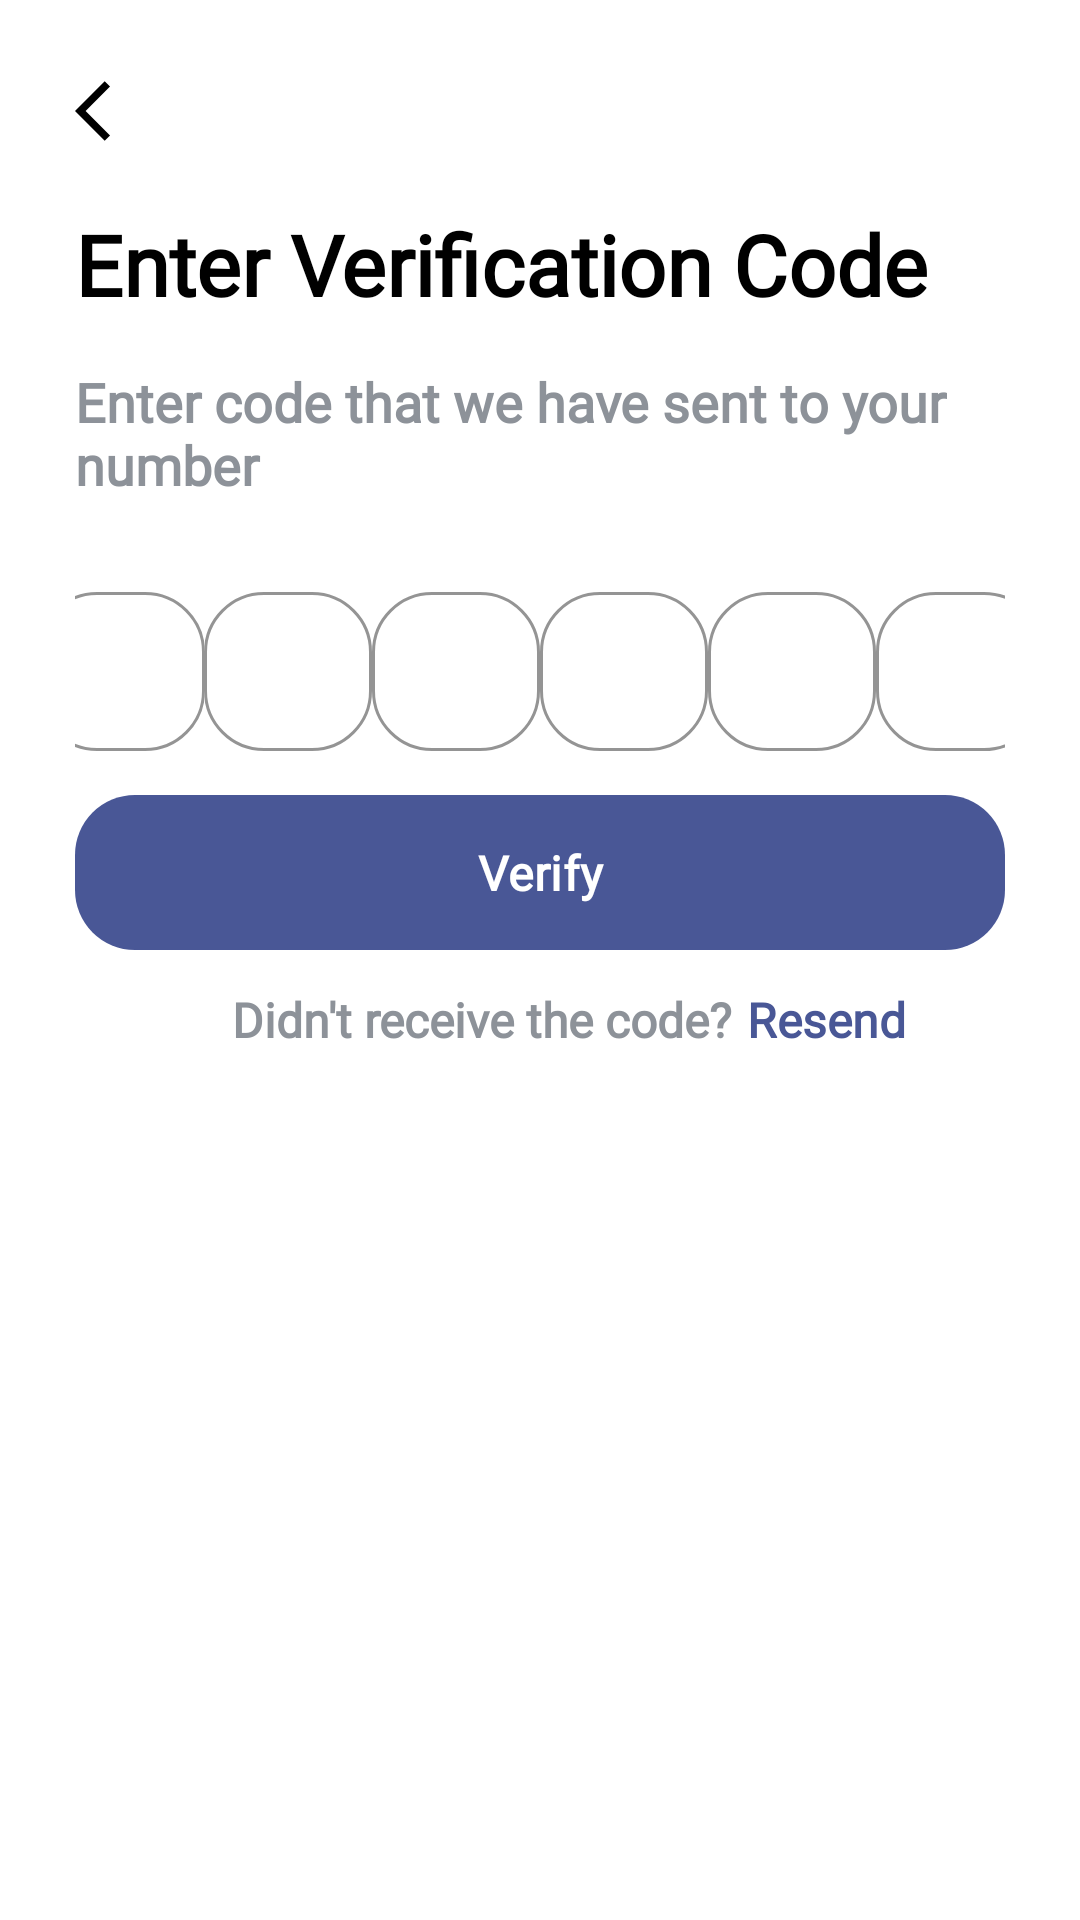

Icon bounding boxes for this 1080 x 1920 phone screenshot, format (x1, y1, x2, y2):
back: (75, 81, 110, 141)
